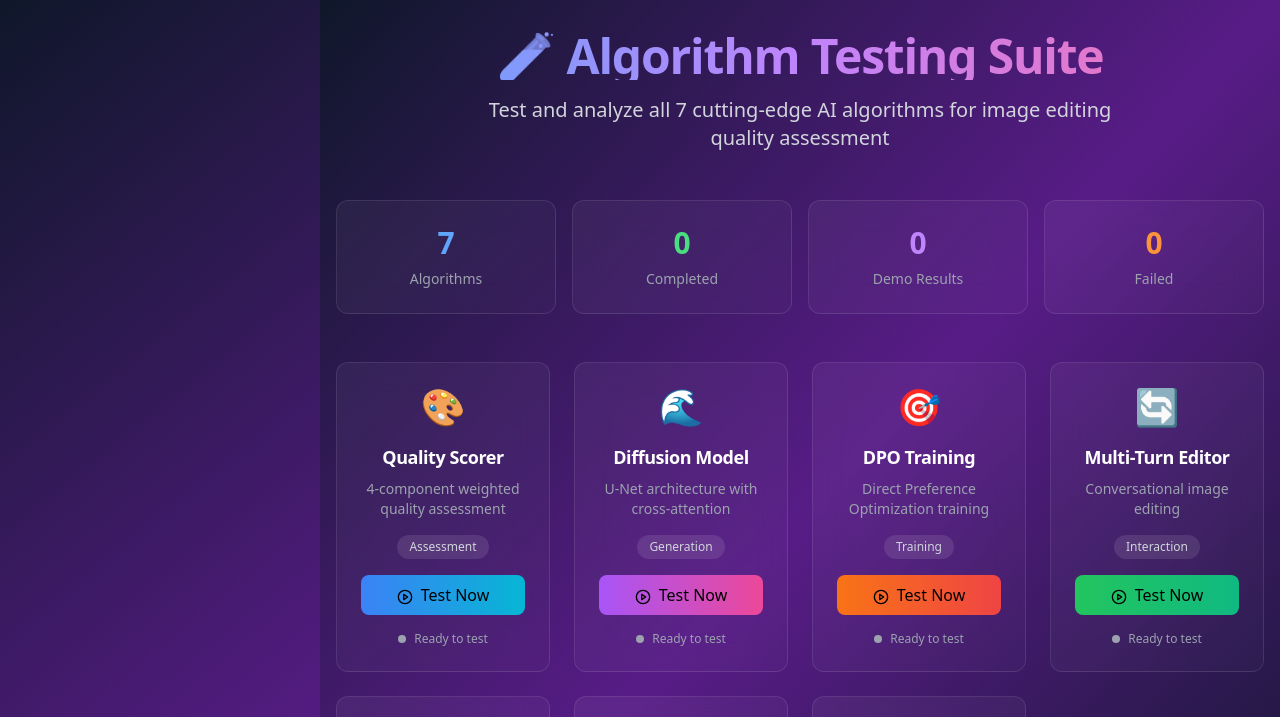
it: displays server failures instead of replacing them with successful mock data
Click the button "Test Now" below "4-component weighted quality assessment" at (443, 595), box x1=361 y1=575 x2=525 y2=615
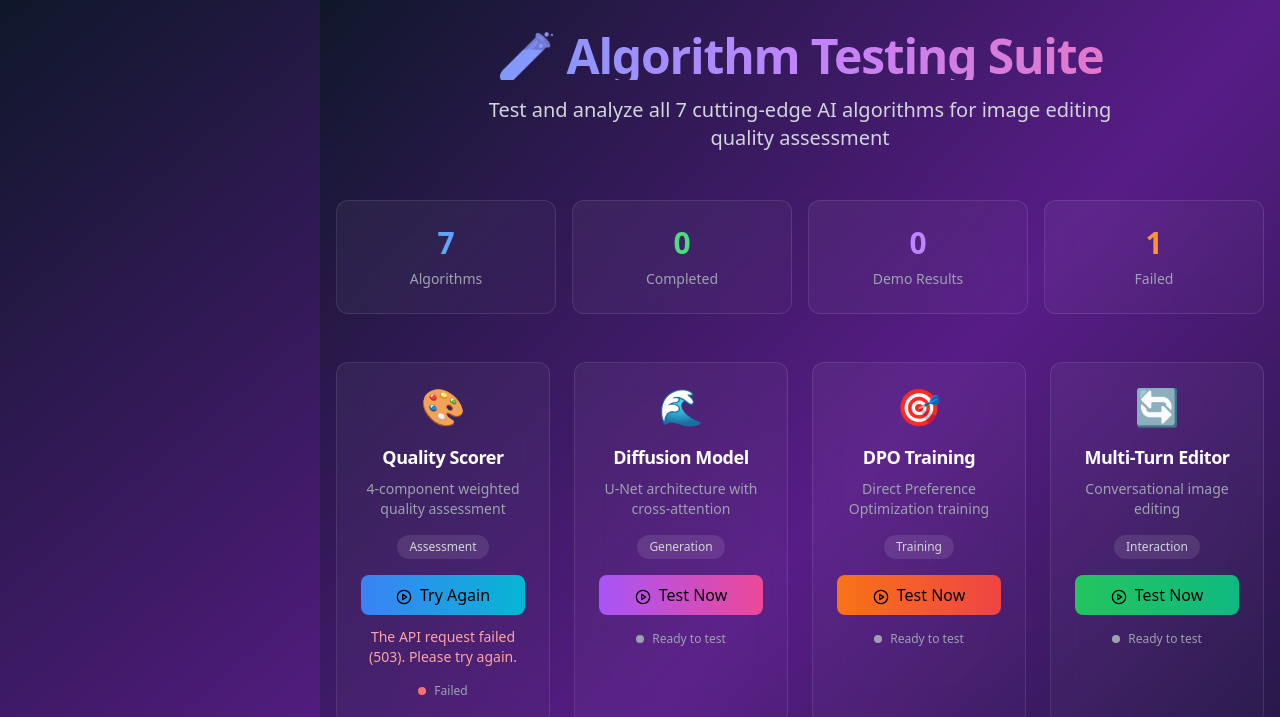
expect the message shows "API request failed (503)": met, box x1=369 y1=627 x2=517 y2=666
